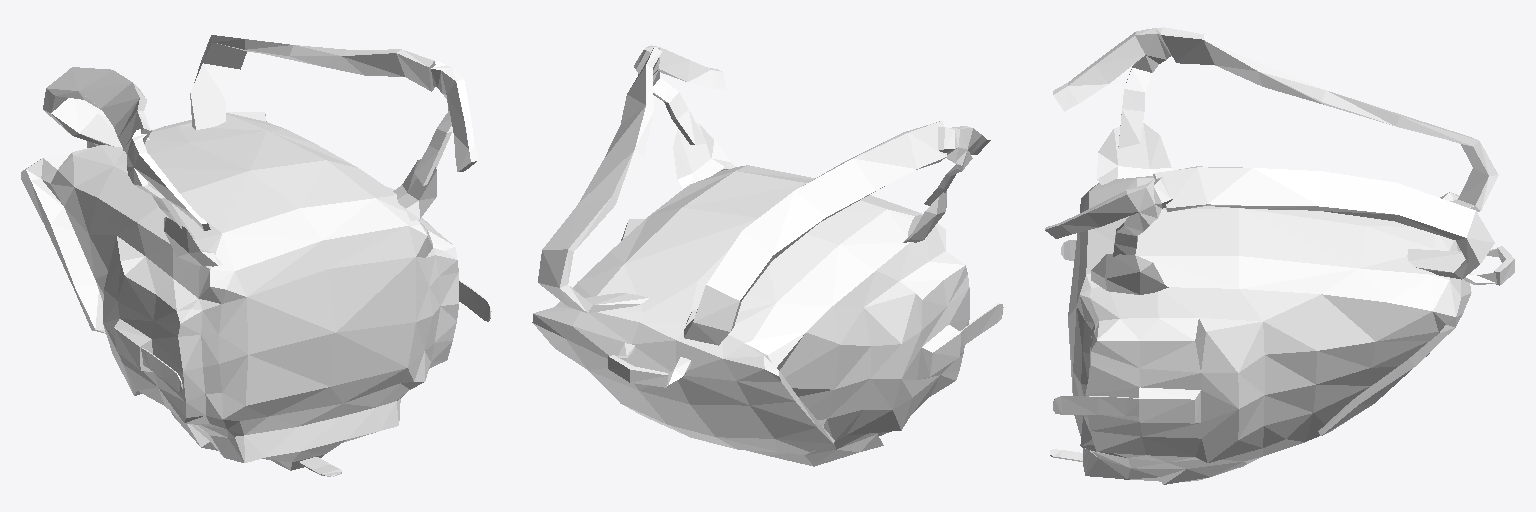
The robot description file, URDF, robot "bagpack.urdf":
<?xml version="1.0" ?>
<robot name="bagpack.urdf">
  <link name="baseLink">
    <inertial>
      <origin rpy="0 0 0" xyz="0 0 0"/>
       <mass value="0.0"/>
       <inertia ixx="0" ixy="0" ixz="0" iyy="0" iyz="0" izz="0"/>
    </inertial>
    <visual>
      <origin rpy="0 0 0" xyz="0 0 0"/>
      <geometry>
        <mesh filename="ff bagpack yellow.fbx.obj" scale="0.01 0.01 0.01"/>
      </geometry>
      <material name="white">
       <color rgba="1 1 1 1"/>
     </material>
    </visual>
    <collision>
      <origin rpy="0 0 0" xyz="0 0 0"/>
      <geometry>
        <mesh filename="ff bagpack yellow.fbx.obj" scale="0.01 0.01 0.01"/>
        <!-- You could also specify the collision (for the ff bagpack yellow.fbx) with a "box" tag: -->
        <!-- <box size=".06 .06 .06"/> -->
      </geometry>
    </collision>
  </link>
</robot>

--- Facts derived from the render (not from the file) ---
3 views of the same robot in one strip: view 1: azimuth 30°, elevation 25°; view 2: azimuth 150°, elevation 25°; view 3: azimuth 270°, elevation 25° (orthographic).
Robot: bagpack.urdf — 1 links, 0 joints (none); root link baseLink; default pose: all joints at 0.
Visible links, largest first — view 1: baseLink; view 2: baseLink; view 3: baseLink.
Boxes of the visible links, x1,y1,x2,y2 form: baseLink: (21, 35, 491, 476); baseLink: (532, 45, 1003, 466); baseLink: (1045, 27, 1514, 484).
Bounding box of the posed robot: 0.338 × 0.4115 × 0.3649 m (x, y, z).
1 mesh visuals loaded from 1 distinct referenced files (1 OBJ).
